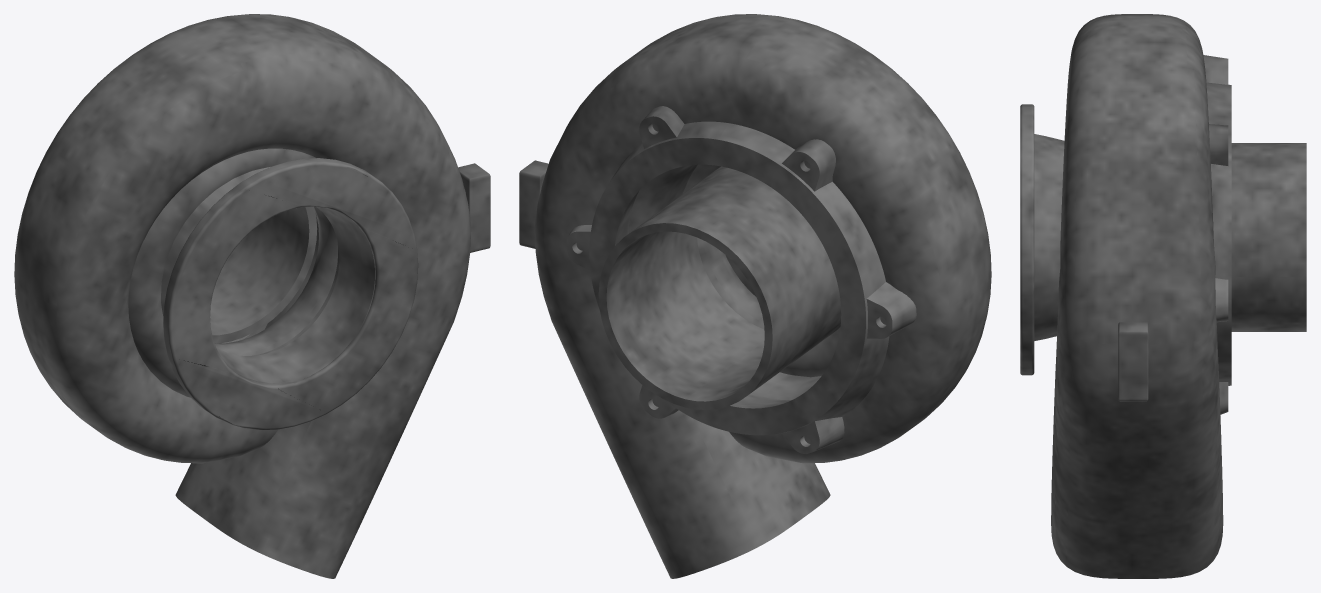
The model's file is turboSmall-exhaust.fbx.
3 views of the same model, side by side, from view 1: azimuth 30°, elevation 25°; view 2: azimuth 150°, elevation 25°; view 3: azimuth 270°, elevation 25° (orthographic). The views are drawn at different scales.
Parts seen in each view (by area): view 1: turboSmall-exhaust; view 2: turboSmall-exhaust; view 3: turboSmall-exhaust.
Boxes of the visible parts, <box> form: turboSmall-exhaust: <box>14,14,490,578</box>; turboSmall-exhaust: <box>519,14,991,578</box>; turboSmall-exhaust: <box>1020,14,1306,578</box>.
Size of the model in its own units: 10.4 by 11.93 by 6.08.
